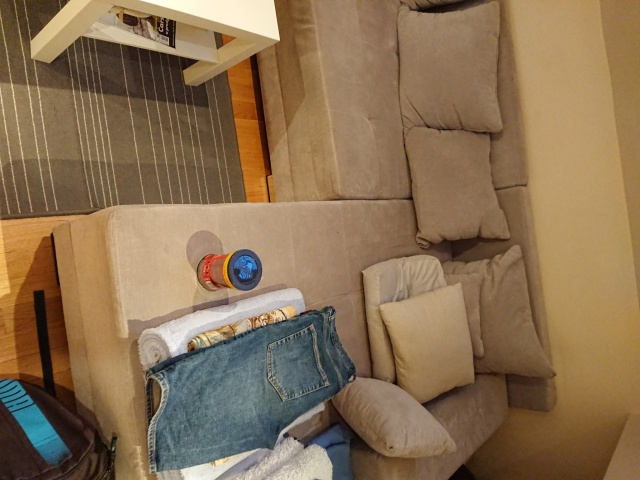Nescafe Classic 225g: (194, 247, 265, 294)
